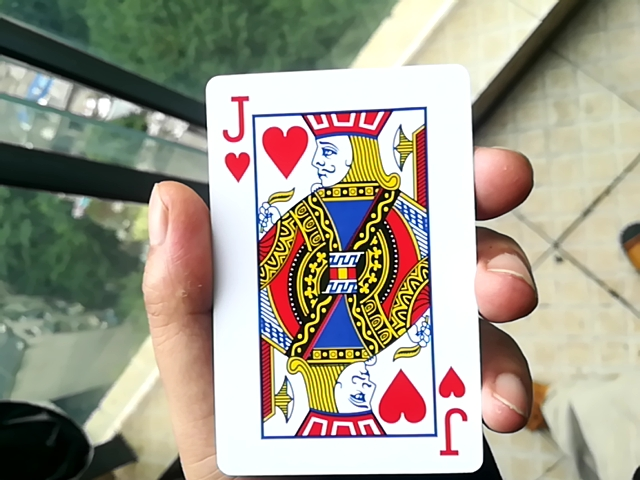hx j: (190, 66, 489, 480)
